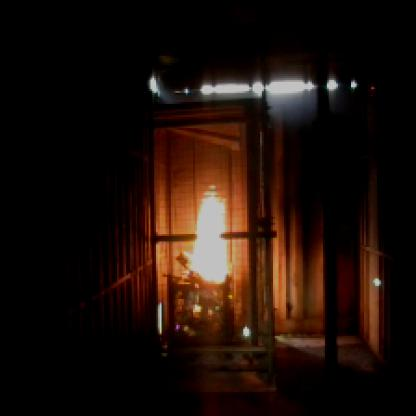Fire: (164, 178, 252, 348)
